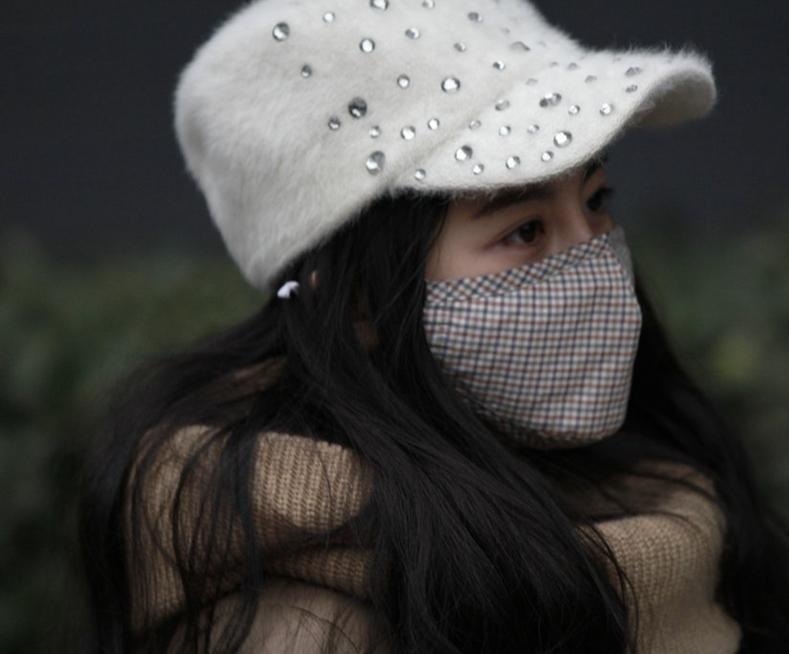OK: (379, 158, 645, 450)
